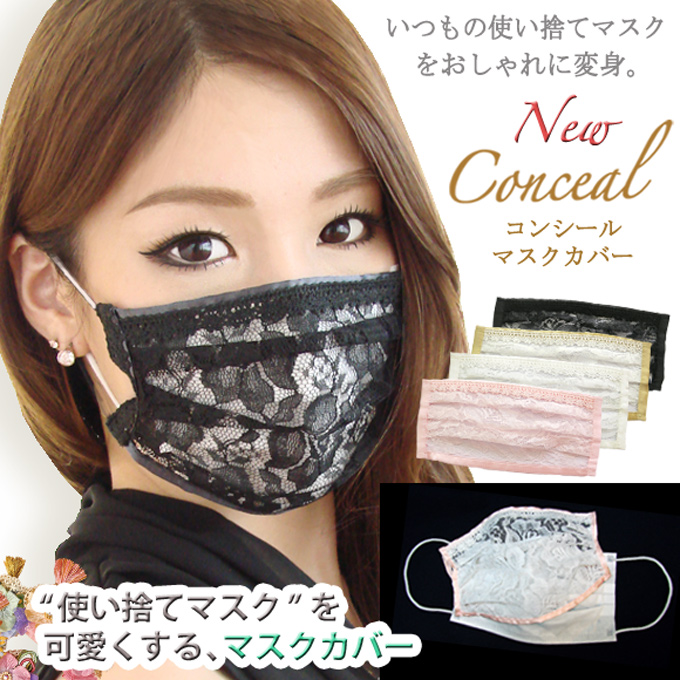mask: (97, 263, 407, 513)
